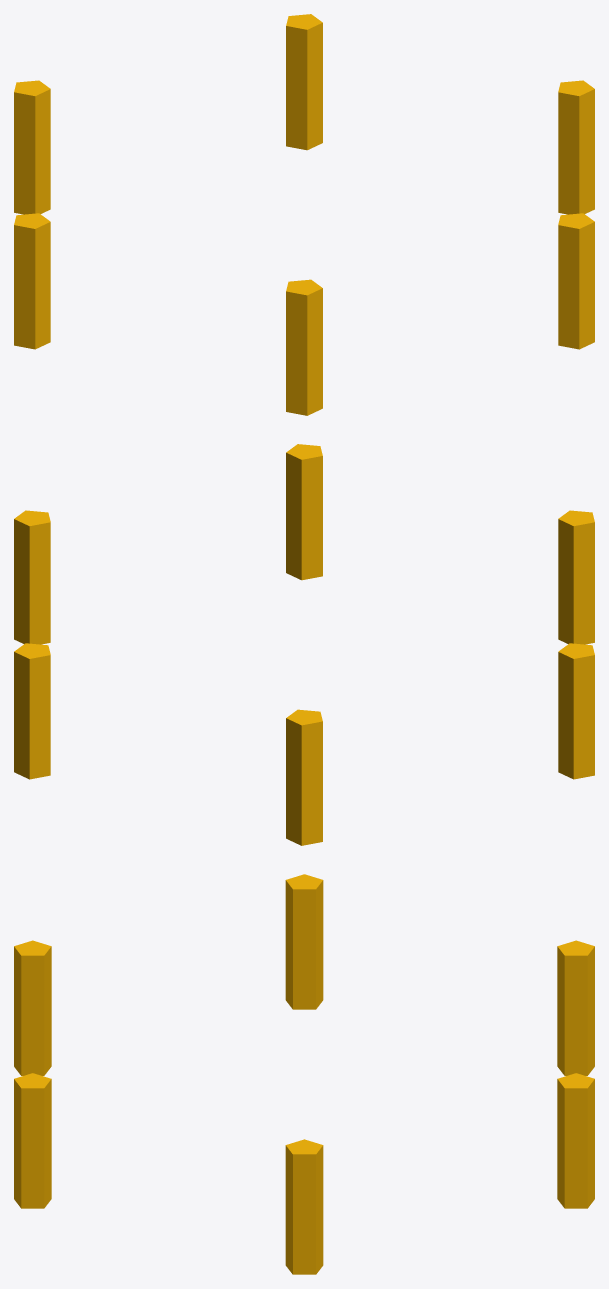
File: Polizei_Ziersäulen_2584.glb
3 renders of one model, top to bottom at view 1: azimuth 30°, elevation 25°; view 2: azimuth 150°, elevation 25°; view 3: azimuth 270°, elevation 25°, orthographic.
Parts seen in each view (by area): view 1: pCylinderShape171, pCylinderShape172, pCylinderShape173, pCylinderShape169, pCylinderShape174, pCylinderShape170; view 2: pCylinderShape169, pCylinderShape174, pCylinderShape173, pCylinderShape171, pCylinderShape172, pCylinderShape170; view 3: pCylinderShape173, pCylinderShape170, pCylinderShape171, pCylinderShape169, pCylinderShape172, pCylinderShape174.
Boxes of the visible parts, x1,y1,x2,y2 form: pCylinderShape171: (558, 213, 594, 349); pCylinderShape172: (286, 279, 322, 415); pCylinderShape173: (14, 213, 50, 349); pCylinderShape169: (286, 14, 322, 150); pCylinderShape174: (14, 80, 50, 214); pCylinderShape170: (558, 80, 594, 214); pCylinderShape169: (14, 643, 50, 779); pCylinderShape174: (286, 709, 322, 845); pCylinderShape173: (558, 643, 594, 779); pCylinderShape171: (286, 444, 322, 580); pCylinderShape172: (558, 510, 594, 644); pCylinderShape170: (14, 510, 50, 644); pCylinderShape173: (285, 874, 323, 1009); pCylinderShape170: (285, 1139, 323, 1274); pCylinderShape171: (14, 1073, 51, 1208); pCylinderShape169: (557, 1073, 594, 1208); pCylinderShape172: (14, 940, 51, 1075); pCylinderShape174: (557, 940, 594, 1075).
Size of the model in its own units: 1.94 by 0.3891 by 1.7.
